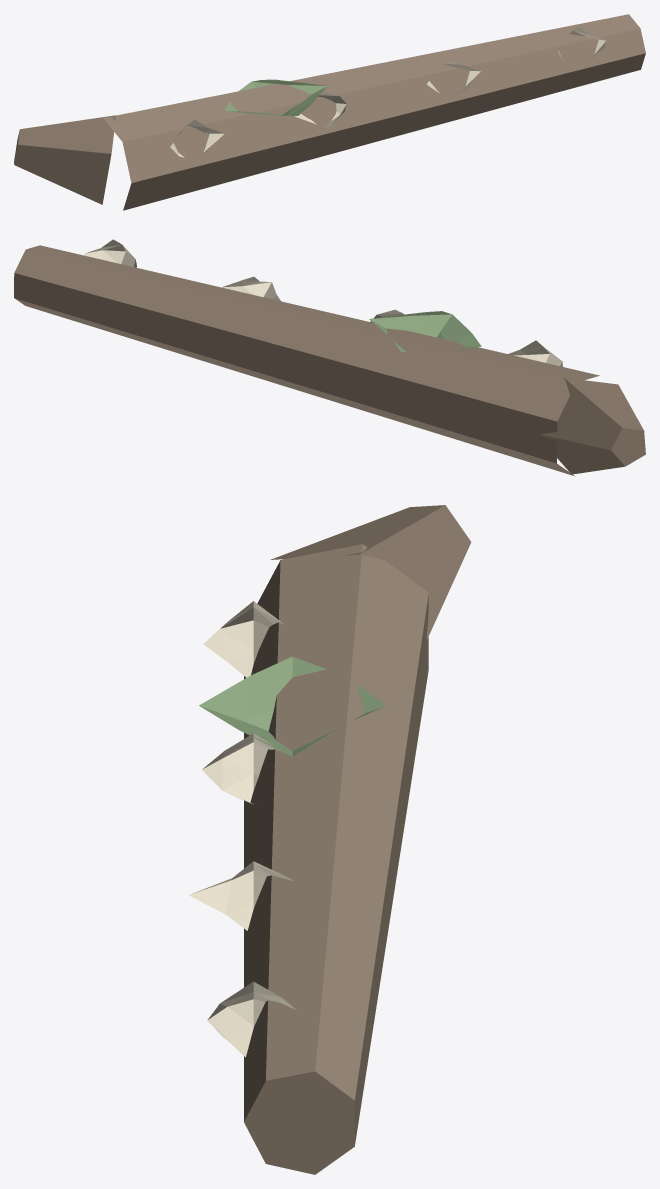
Rendered from log_v32.glb.
3 views of the same model, one above another, from view 1: azimuth 30°, elevation 25°; view 2: azimuth 150°, elevation 25°; view 3: azimuth 270°, elevation 25° (orthographic). The views are drawn at different scales.
Parts seen in each view (by area): view 1: lod0; view 2: lod0; view 3: lod0.
Boxes of the visible parts, x1=… form: lod0: x1=14, y1=14, x2=645, y2=210; lod0: x1=14, y1=239, x2=645, y2=476; lod0: x1=189, y1=505, x2=471, y2=1174.
Size of what is drawn, in the model's own units: 2.8 by 0.4526 by 0.5815.
